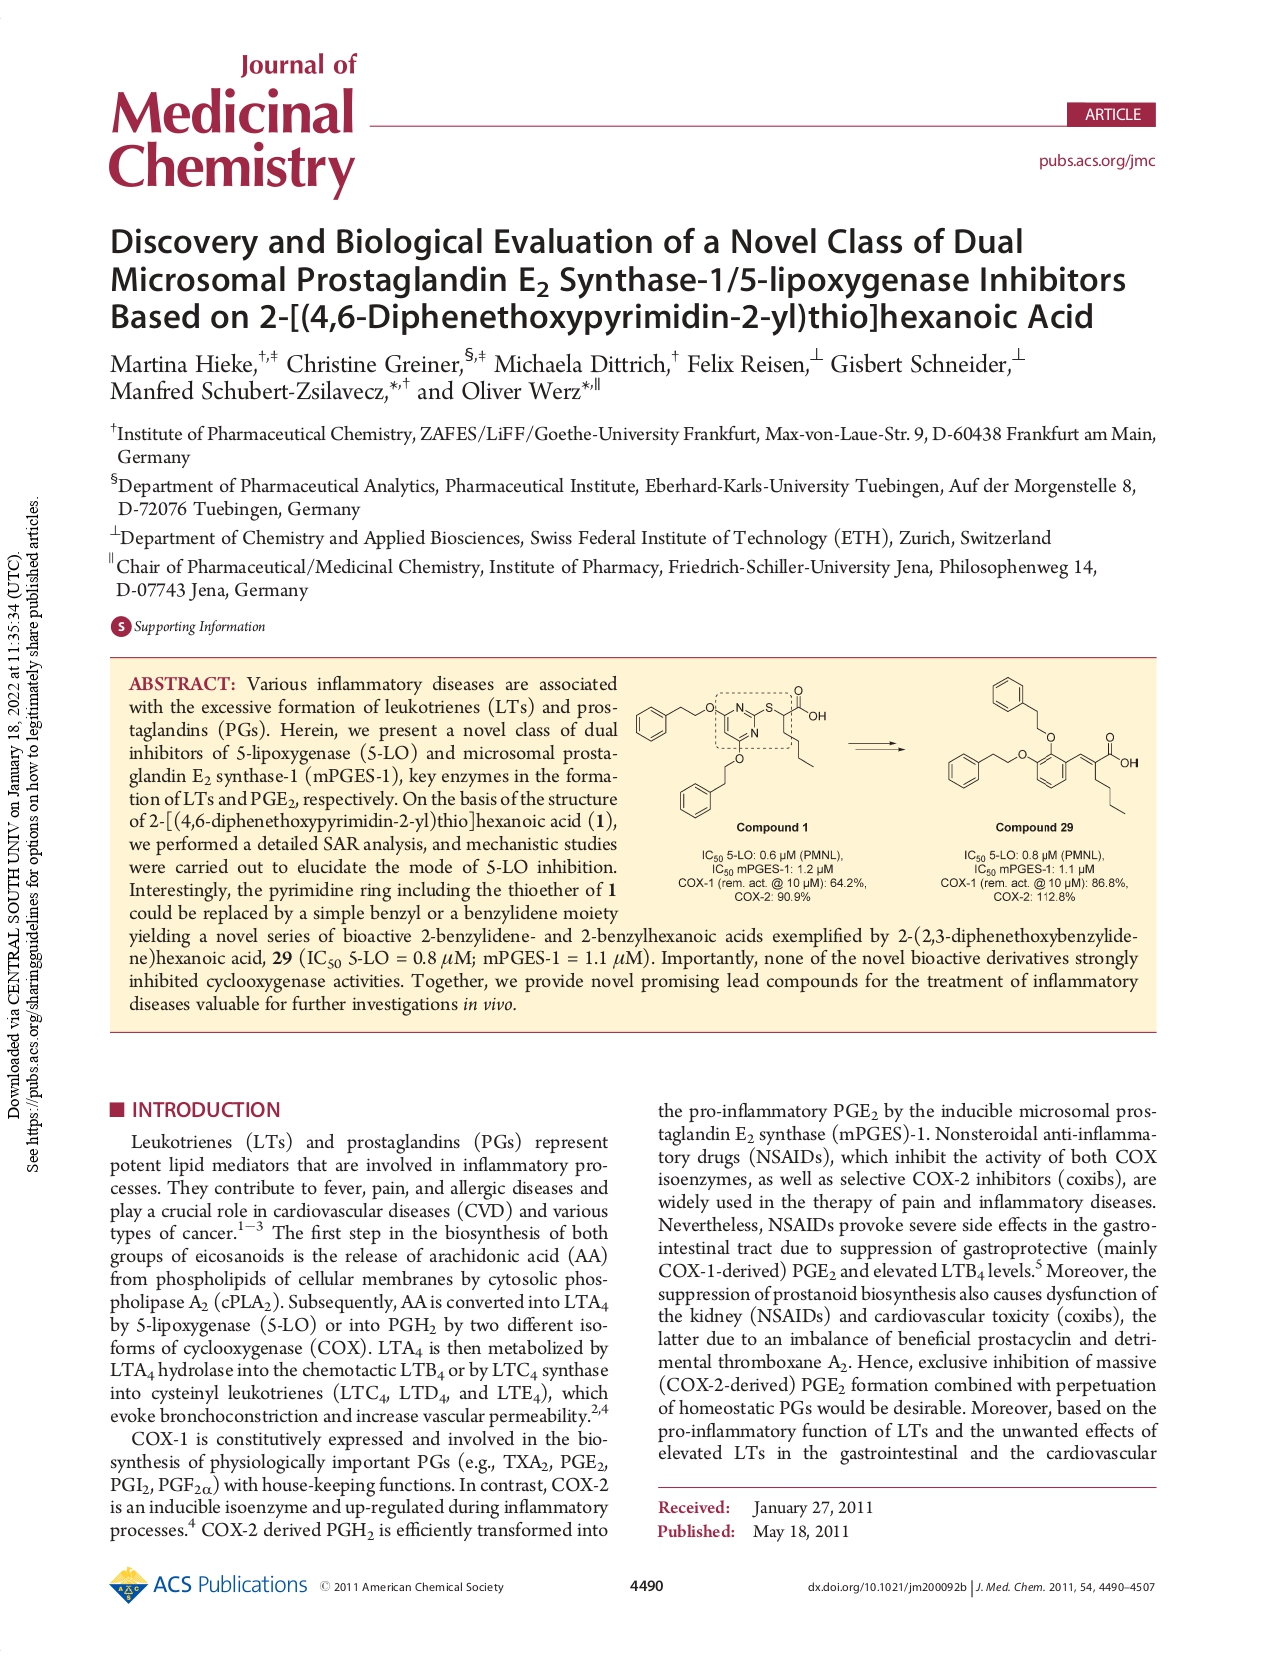exist_molecular: (946, 674, 1142, 817), (630, 684, 828, 819)
